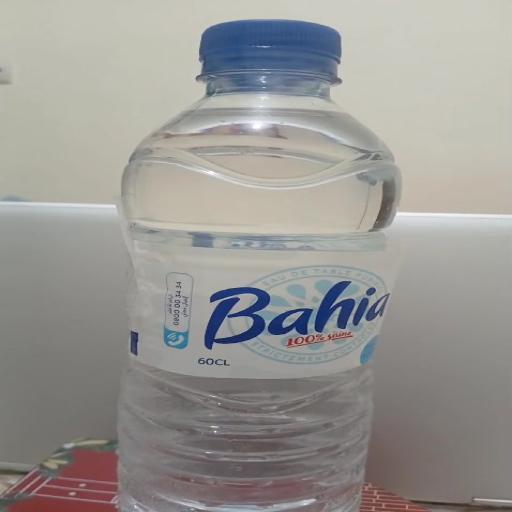bouteille conformite: (155, 9, 331, 512)
